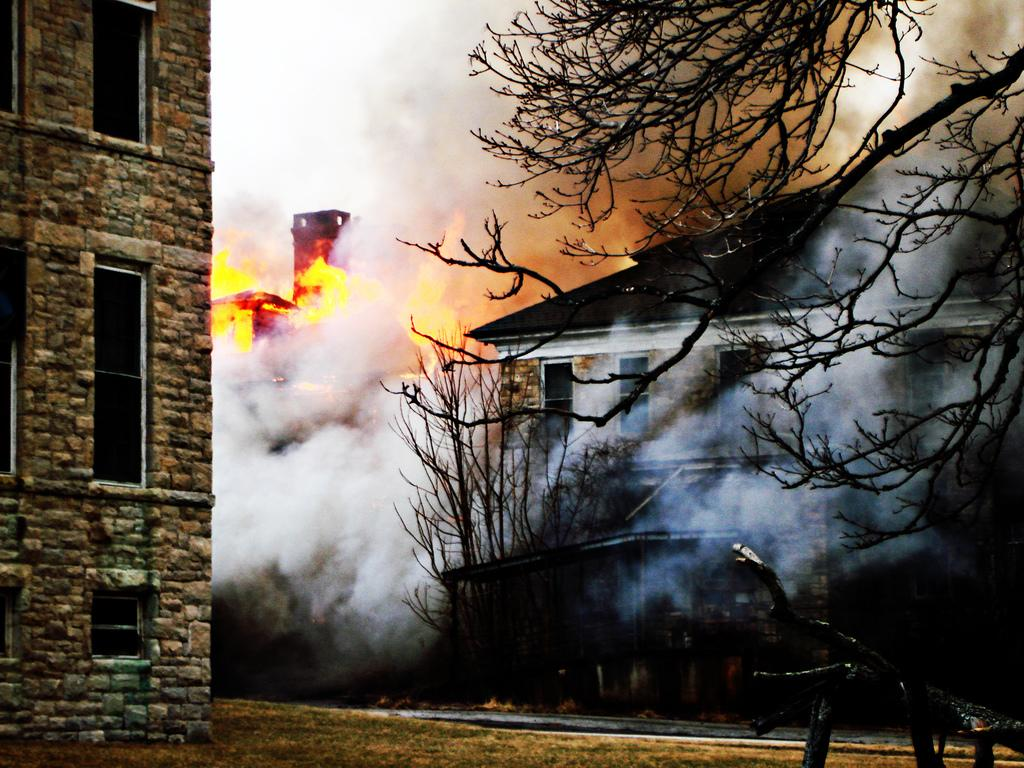fire: (214, 248, 356, 348), (400, 290, 472, 368)
smoke: (234, 20, 434, 168), (240, 422, 406, 576)
